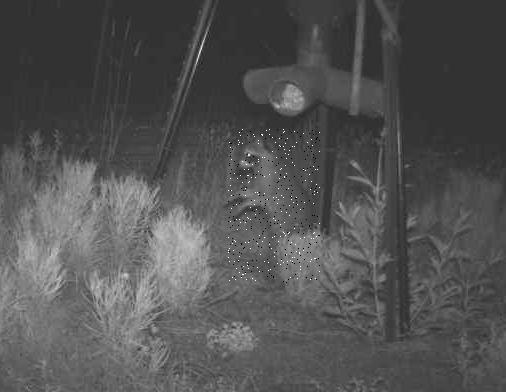Raccoon: (228, 130, 320, 284)
